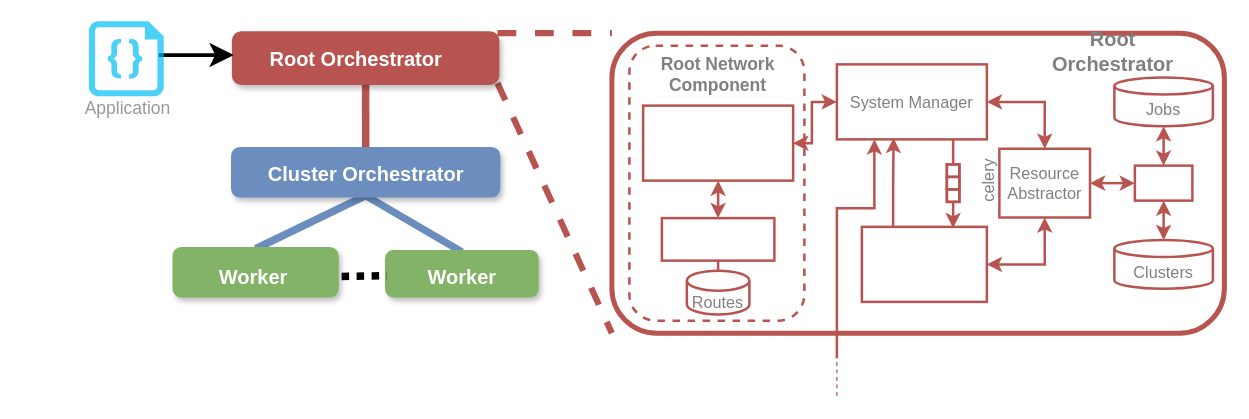
This 1249x419 diagram has some shape labels left out. The shapes that lost their labels are listed below. From the top down, each one's centre as x and y in pixels, then its label:
At (x=717, y=142): "Root Service Manager".
At (x=1163, y=182): "mongo".
At (x=717, y=238): "mongo net".
At (x=924, y=263): "Scheduler".
